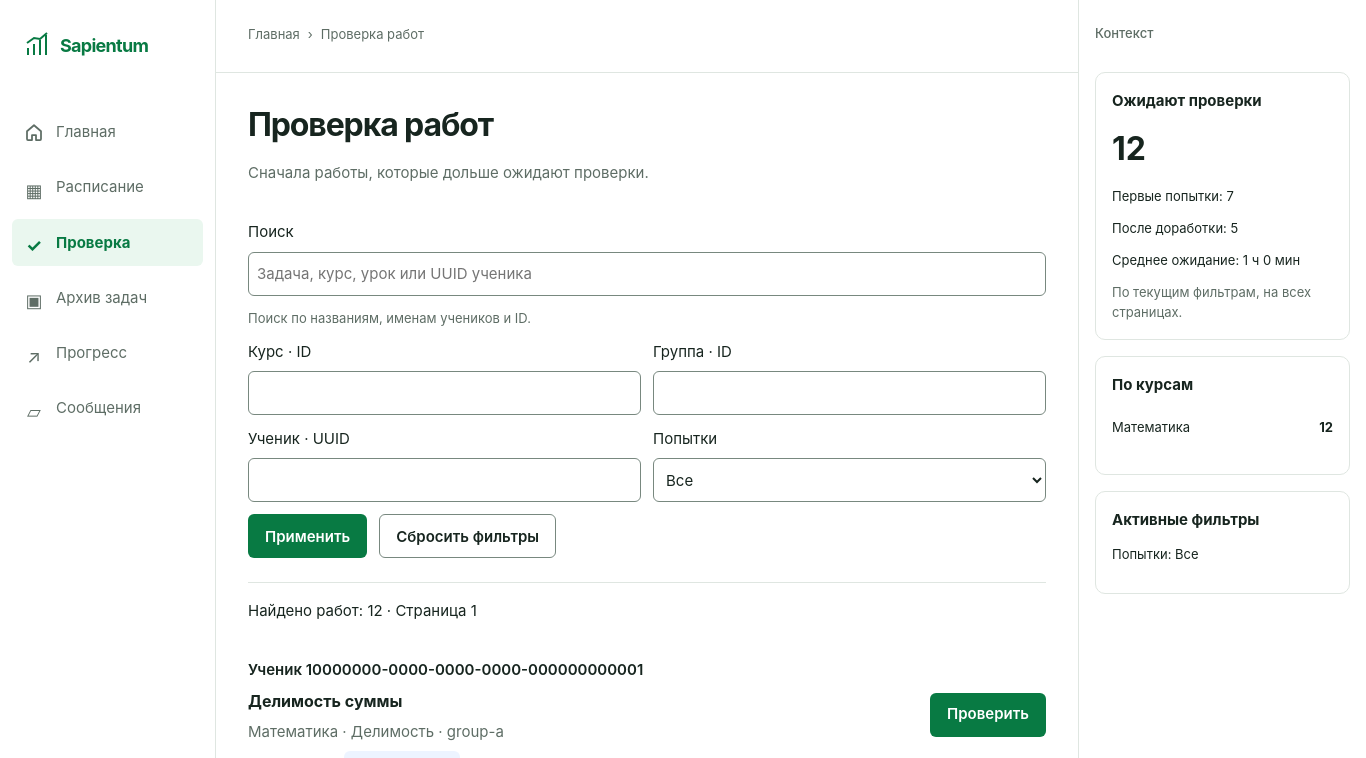
Test case: Teacher Review Queue › navigates using ProblemWorkId to real J1 query and focuses main
Click the link with aria-label "Проверить: Ученик": (988, 715) [930, 693, 1046, 737]
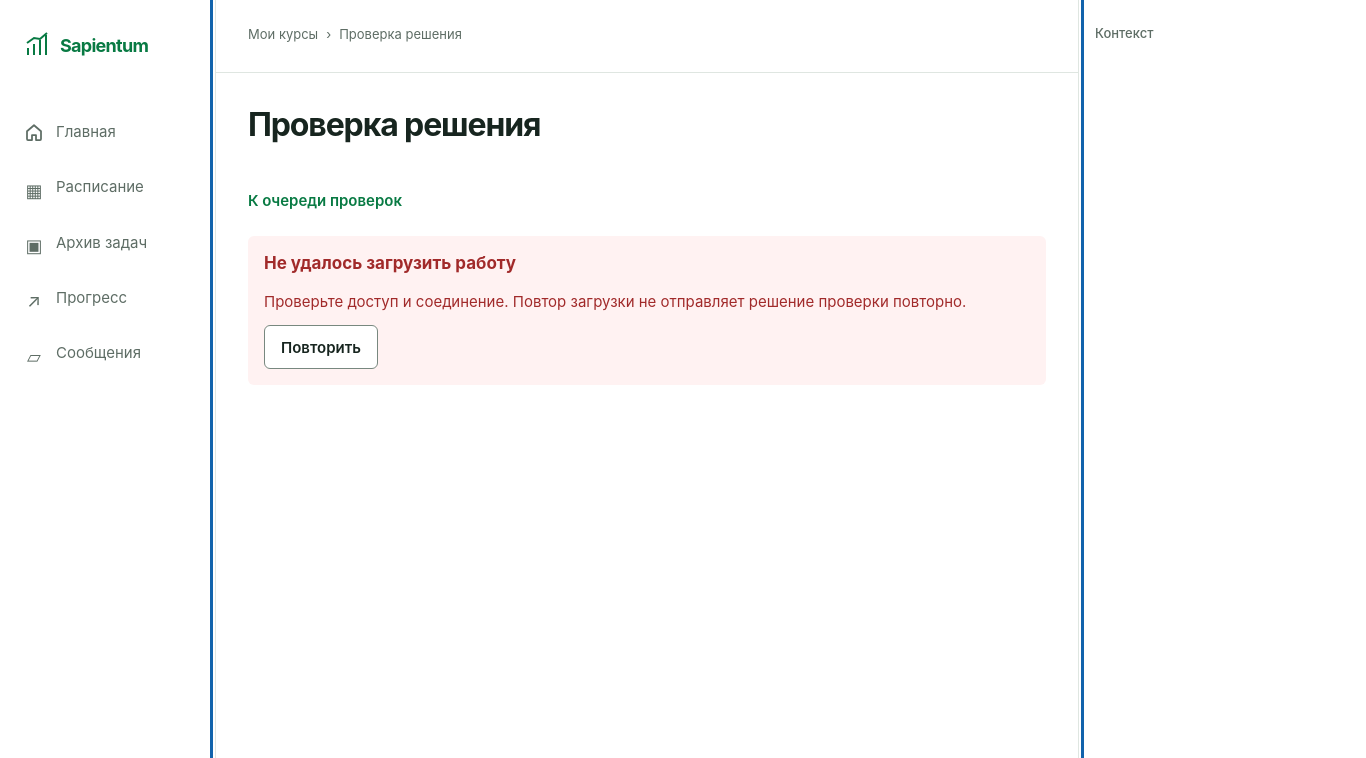
Expected: the heading "Проверка решения" is shown, [248, 105, 540, 145]
